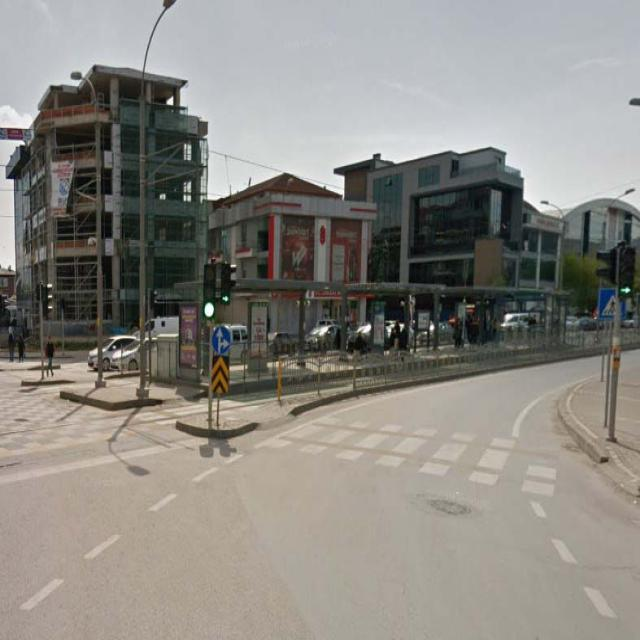ilerisag: (213, 326, 230, 352)
yesil: (204, 262, 216, 318)
